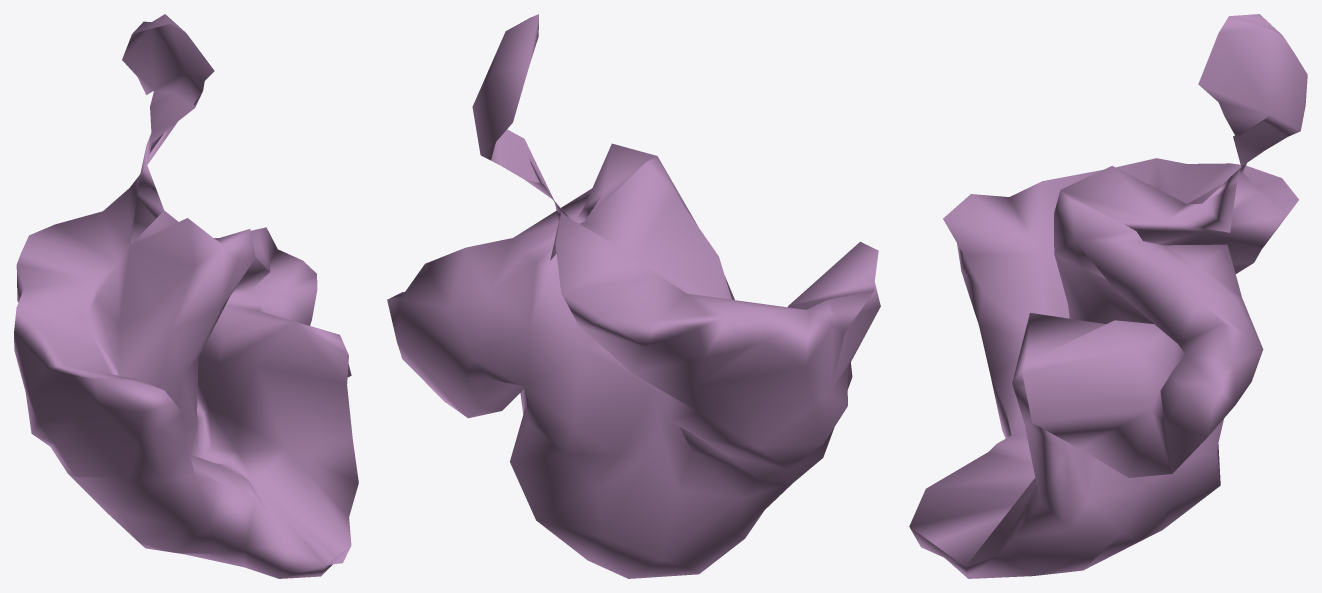
The picture shows the model from 3 angles, left to right: view 1: azimuth 30°, elevation 25°; view 2: azimuth 150°, elevation 25°; view 3: azimuth 270°, elevation 25°; orthographic projection. The views are drawn at different scales.
Visible parts, largest first — view 1: 左侧颞极; view 2: 左侧颞极; view 3: 左侧颞极.
Part boxes in pixels (<box>): 左侧颞极: <box>14,14,358,578</box>; 左侧颞极: <box>387,14,880,578</box>; 左侧颞极: <box>909,14,1307,578</box>.
Size of the model in its own units: 0.0435 by 0.0619 by 0.0408.
